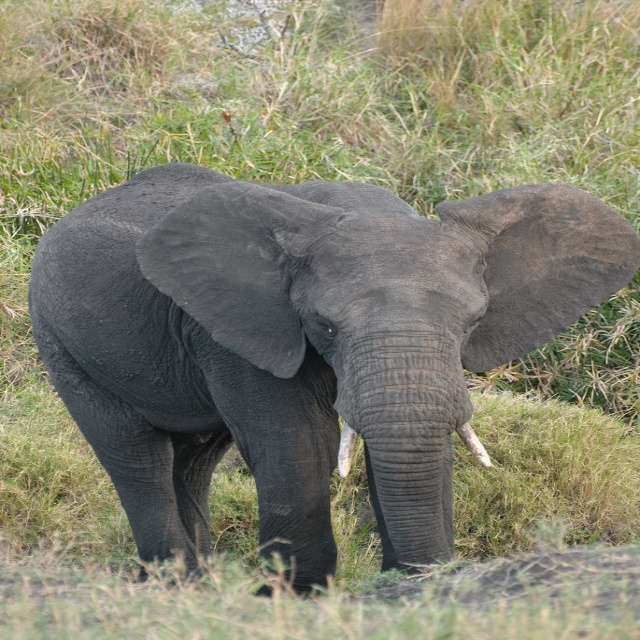Elephant: (25, 161, 639, 598)
